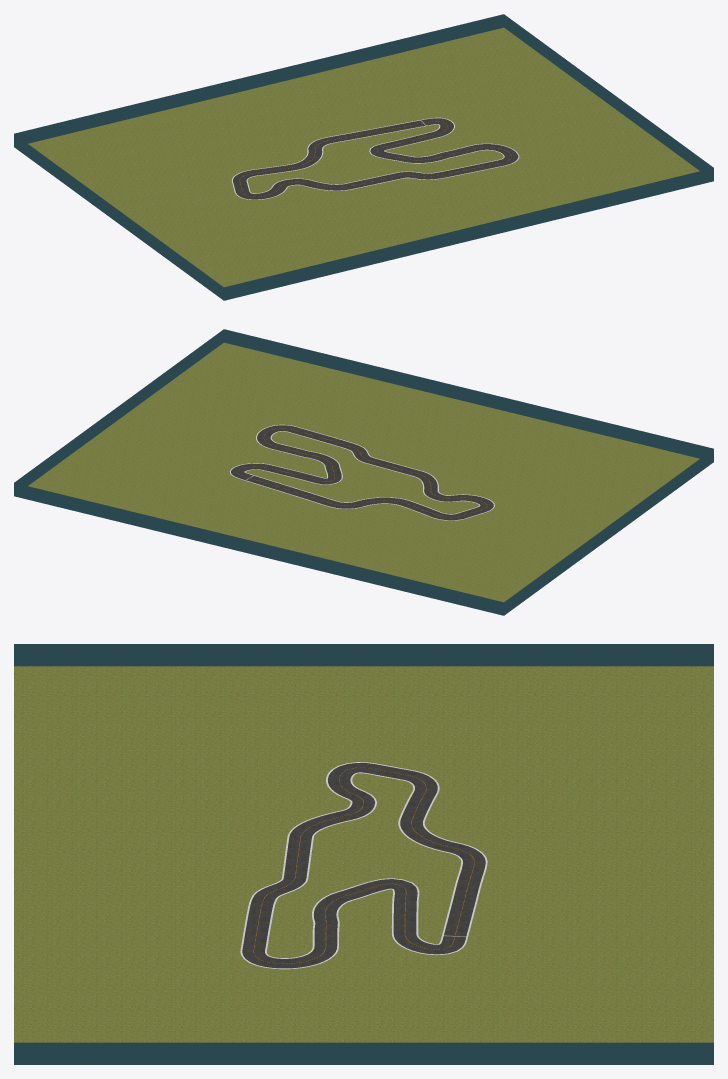
File: arctic_pro.dae
3 renders of one model, top to bottom at view 1: azimuth 30°, elevation 25°; view 2: azimuth 150°, elevation 25°; view 3: azimuth 270°, elevation 25°, orthographic. The views are drawn at different scales.
Parts seen in each view (by area): view 1: field, wall, road, ol, il; view 2: field, wall, road, ol, il; view 3: field, wall, road, ol, il.
Part boxes in pixels (x1,y1,x2,y2): field: (28, 27, 699, 287); wall: (14, 14, 713, 300); road: (233, 118, 518, 199); ol: (231, 117, 519, 199); il: (246, 124, 504, 193); field: (28, 342, 699, 602); wall: (14, 329, 713, 615); road: (231, 425, 493, 520); ol: (229, 424, 494, 520); il: (244, 431, 480, 514); field: (14, 666, 713, 1042); wall: (14, 644, 713, 1064); road: (242, 763, 485, 968); ol: (240, 762, 487, 969); il: (265, 772, 462, 958).
Bounding box in the file's own units: 38.08 × 28.27 × 1.
Materials: 7 (7 with a texture image).
